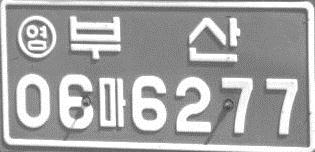0: (15, 72, 51, 129)
2: (173, 75, 212, 134)
6: (130, 74, 168, 131), (57, 73, 93, 130)
7: (264, 77, 299, 136), (220, 76, 254, 135)
마: (97, 76, 127, 129)
부산_D: (67, 14, 241, 63)
영: (15, 13, 57, 60)
